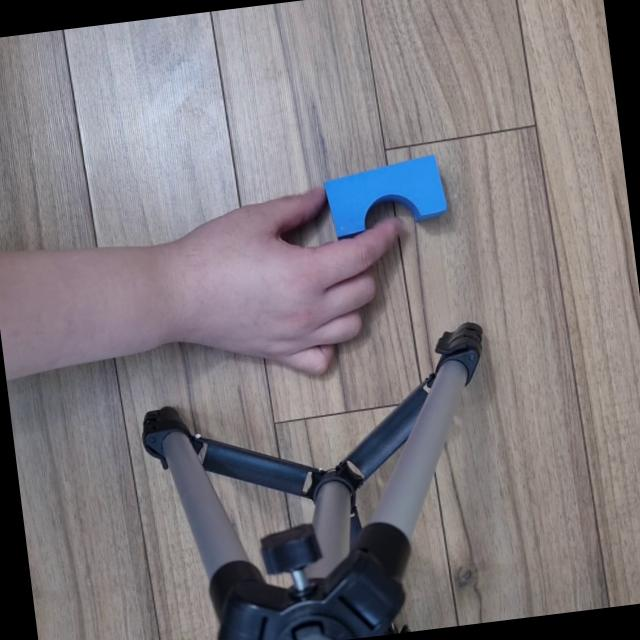block: (307, 140, 460, 246)
hand: (126, 184, 433, 425)
